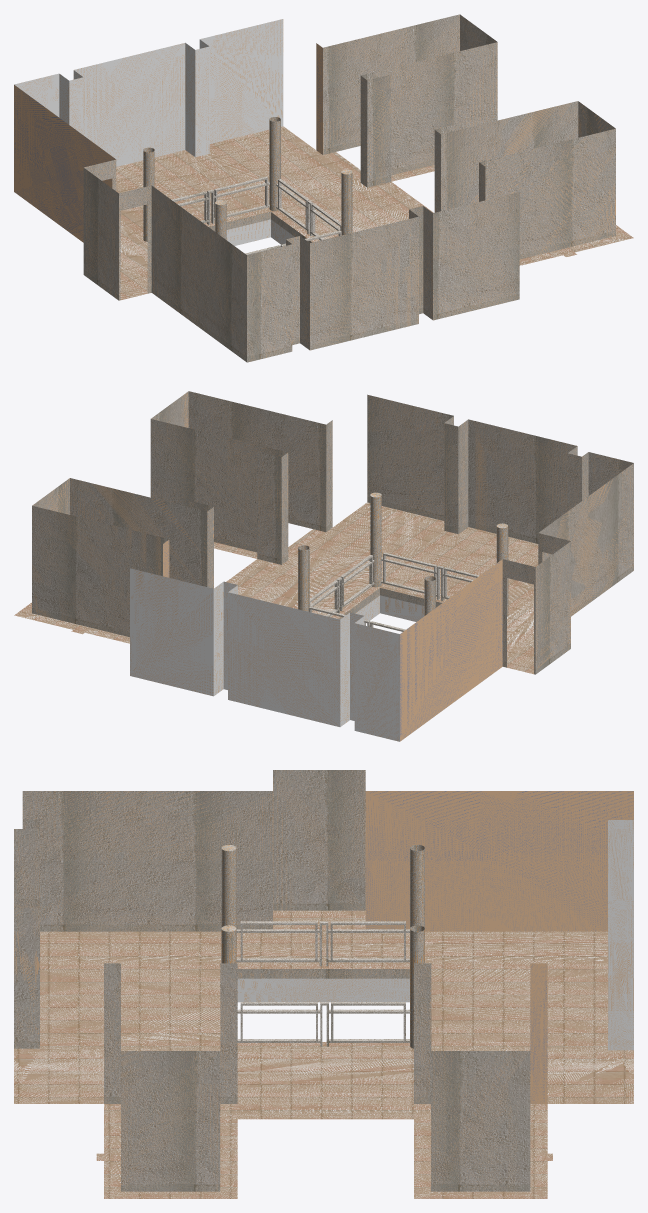
File: COM002.obj
3 views of the same model, one above another, from view 1: azimuth 30°, elevation 25°; view 2: azimuth 150°, elevation 25°; view 3: azimuth 270°, elevation 25° (orthographic). The views are drawn at different scales.
Visible parts, largest first — view 1: Mesh1 COM002 Model; view 2: Mesh1 COM002 Model; view 3: Mesh1 COM002 Model.
Part boxes in pixels (left/top/right/bottom): Mesh1 COM002 Model: left=14, top=14, right=633, bottom=362; Mesh1 COM002 Model: left=14, top=391, right=633, bottom=741; Mesh1 COM002 Model: left=14, top=770, right=633, bottom=1198.
Bounding box in the file's own units: 15.81 × 4.45 × 14.38.
Materials: 7 (2 with a texture image).
